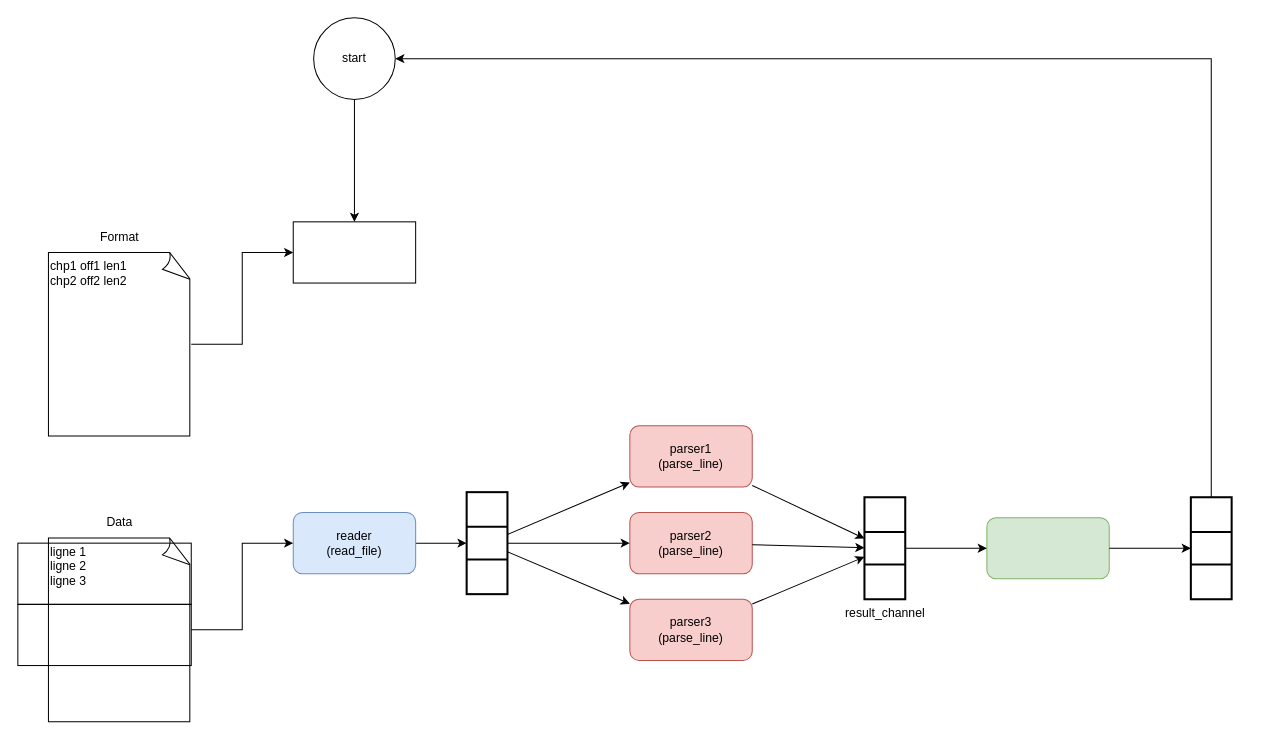
Some shapes in this 1264 by 740 pixel diagram are drawn without their labels. The shapes that lost their labels are listed below. From the top down, each one's box as (x1, y1, x2, y2) in pixels, then its label:
(292, 221, 416, 283): read_format
(465, 491, 508, 595): line_channel
(986, 517, 1109, 579): printer (print)
(1189, 496, 1232, 600): end_channel
